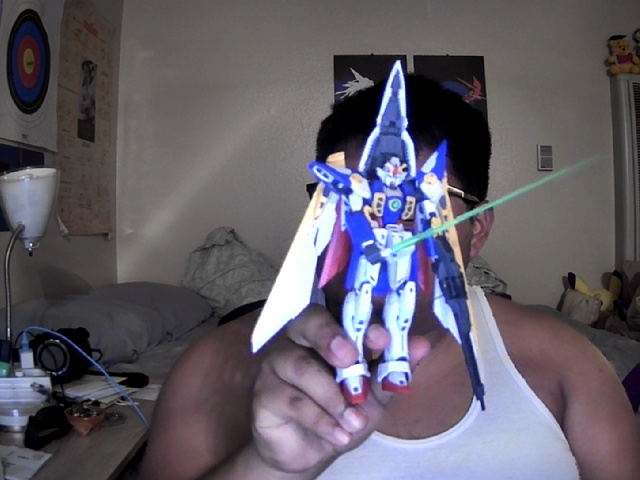Wing-01: (249, 59, 602, 416)
